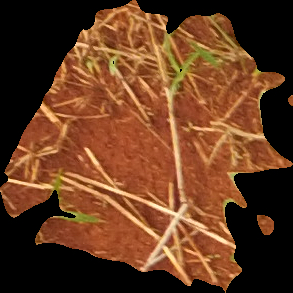soil: (2, 1, 293, 292)
